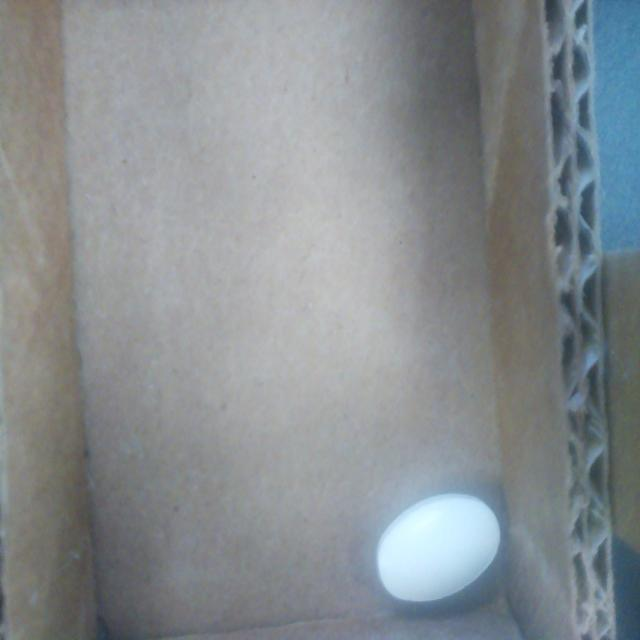pill: (376, 494, 502, 603)
